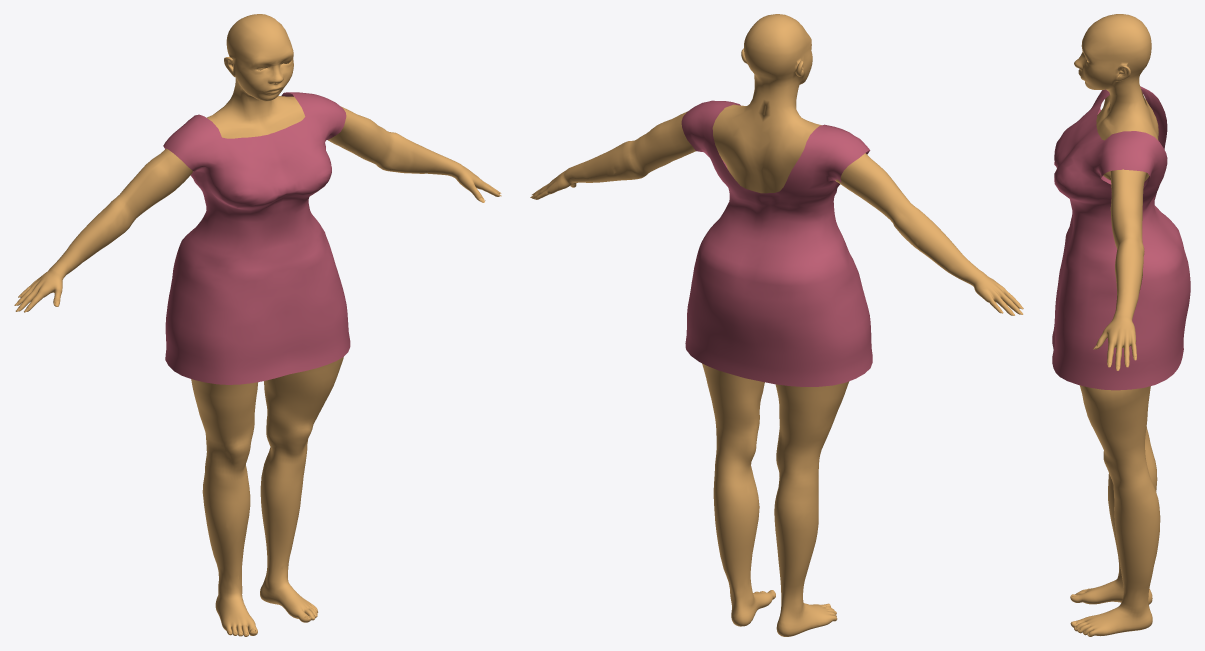
File: dress7.glb
3 renders of one model, left to right at view 1: azimuth 30°, elevation 25°; view 2: azimuth 150°, elevation 25°; view 3: azimuth 270°, elevation 25°, orthographic.
Visible parts, largest first — view 1: Jennifer.F_Dress_01, Body; view 2: Body, Jennifer.F_Dress_01; view 3: Jennifer.F_Dress_01, Body.
Boxes of the visible parts, bbox=[...] form: Jennifer.F_Dress_01: bbox=[163, 92, 350, 384]; Body: bbox=[17, 14, 500, 636]; Body: bbox=[532, 14, 1020, 636]; Jennifer.F_Dress_01: bbox=[681, 100, 872, 386]; Jennifer.F_Dress_01: bbox=[1052, 86, 1190, 390]; Body: bbox=[1070, 14, 1160, 636].
Size of the model in its own units: 1.58 by 1.85 by 0.3879.
